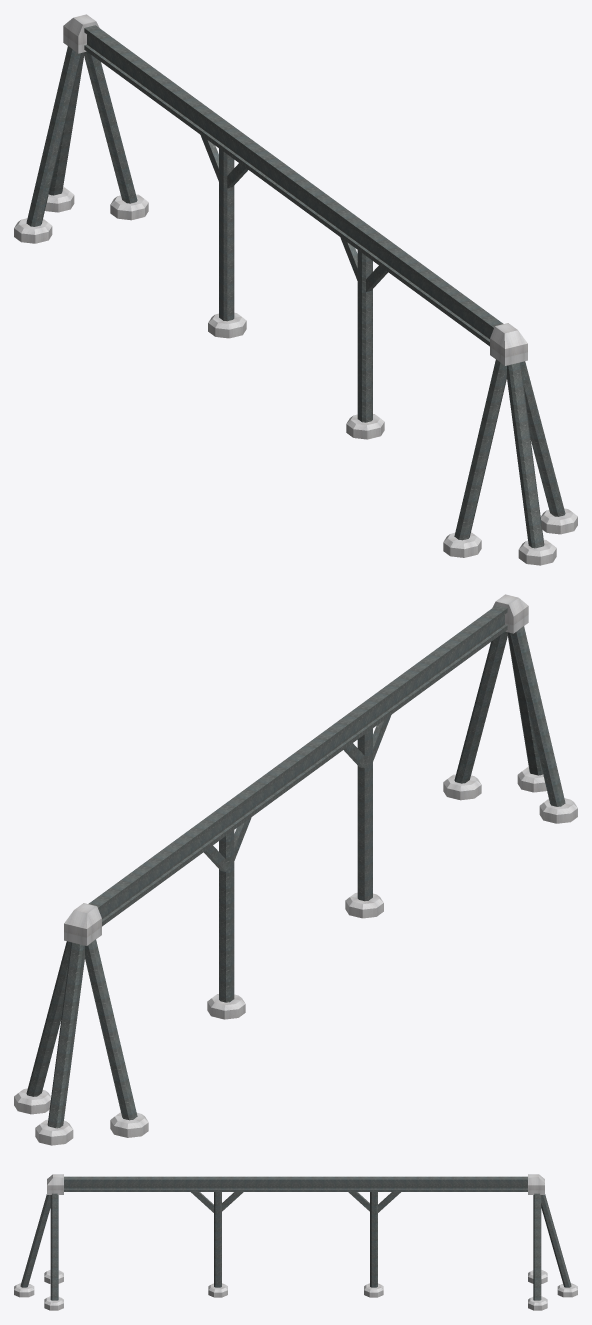
File: crane_base.FBX
3 views of the same model, one above another, from view 1: azimuth 30°, elevation 25°; view 2: azimuth 150°, elevation 25°; view 3: azimuth 270°, elevation 25° (orthographic). The views are drawn at different scales.
Visible parts, largest first — view 1: Box514; view 2: Box514; view 3: Box514.
Boxes of the visible parts, x1,y1,x2,y2 form: Box514: [14, 14, 577, 565]; Box514: [14, 594, 577, 1145]; Box514: [14, 1174, 577, 1310].
Bounding box in the file's own units: 1017 × 1579 × 6908.
2 materials, 2 textured.
